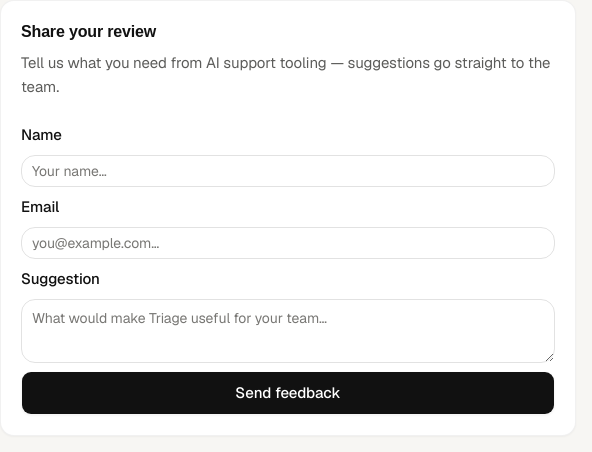
submits feedback successfully
Type "Alex" into the field labelled "Name" at {"x": 288, "y": 171}, box [21, 155, 555, 187]
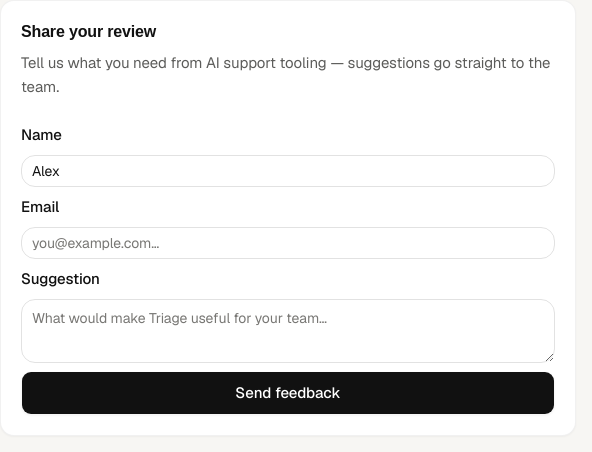
Type "alex@example.com" into the field labelled "Email" at {"x": 288, "y": 243}, box [21, 227, 555, 259]
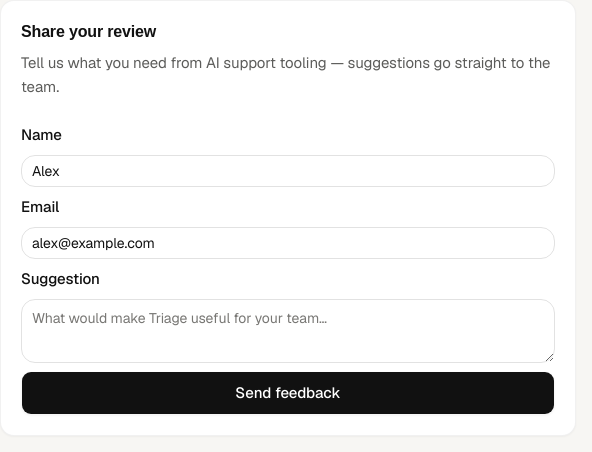
Type "Add Slack intake." into the text box labelled "Suggestion" at {"x": 288, "y": 331}, box [21, 299, 555, 363]
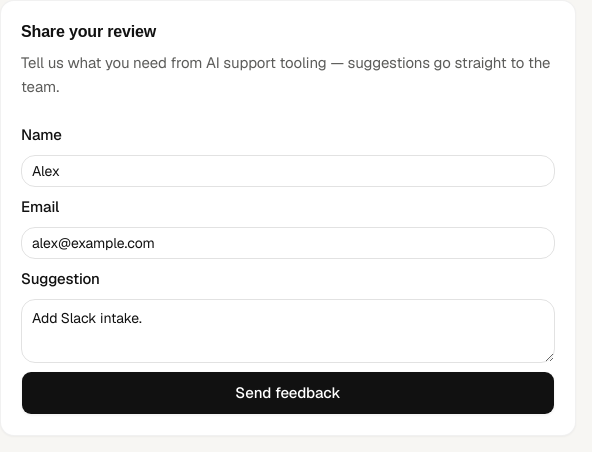
Click the button "Send feedback" at {"x": 288, "y": 393}, box [21, 371, 555, 415]
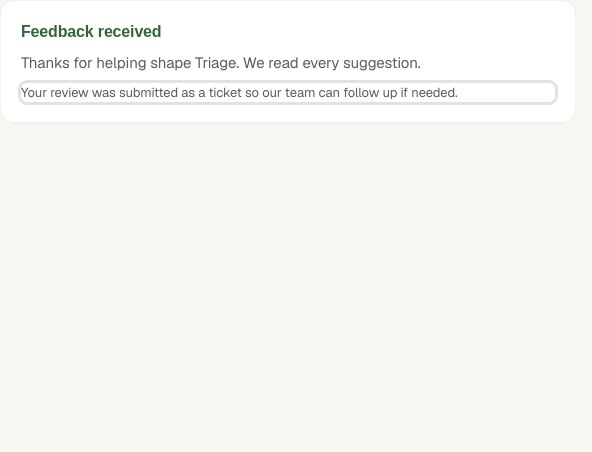
Now the heading "Feedback received" is shown, box [21, 23, 162, 40]
